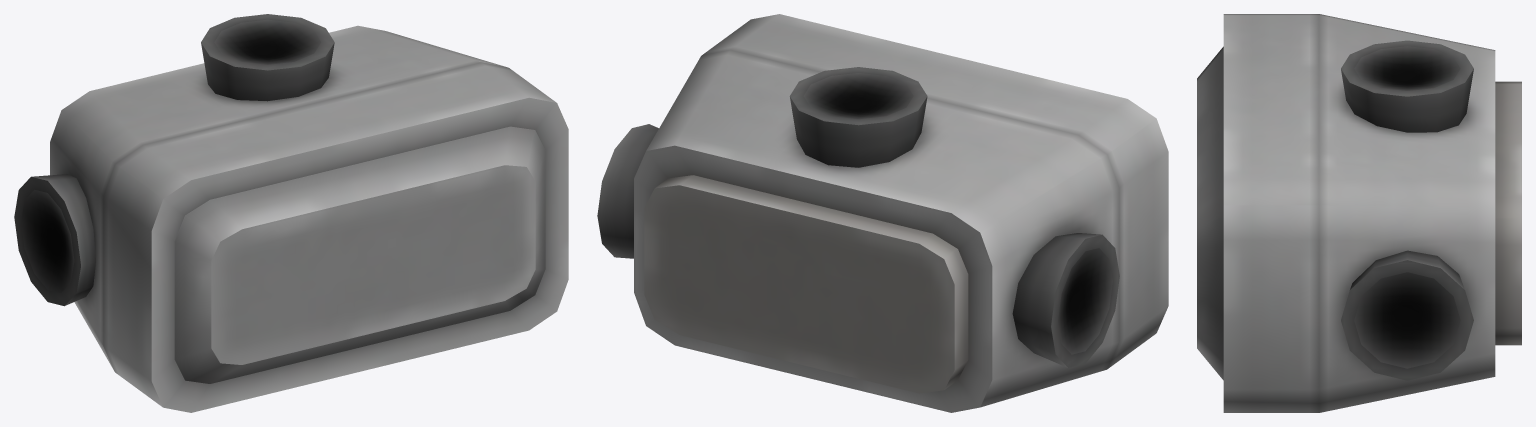
File: Tantares_MOE_2.obj
3 views of the same model, side by side, from view 1: azimuth 30°, elevation 25°; view 2: azimuth 150°, elevation 25°; view 3: azimuth 270°, elevation 25° (orthographic). The views are drawn at different scales.
Visible parts, largest first — view 1: Tantares_MOE_2; view 2: Tantares_MOE_2; view 3: Tantares_MOE_2.
Boxes of the visible parts, x1,y1,x2,y2 form: Tantares_MOE_2: [14, 14, 568, 412]; Tantares_MOE_2: [597, 14, 1168, 412]; Tantares_MOE_2: [1197, 14, 1521, 412].
Bounding box in the file's own units: 0.2375 × 0.135 × 0.1525.
